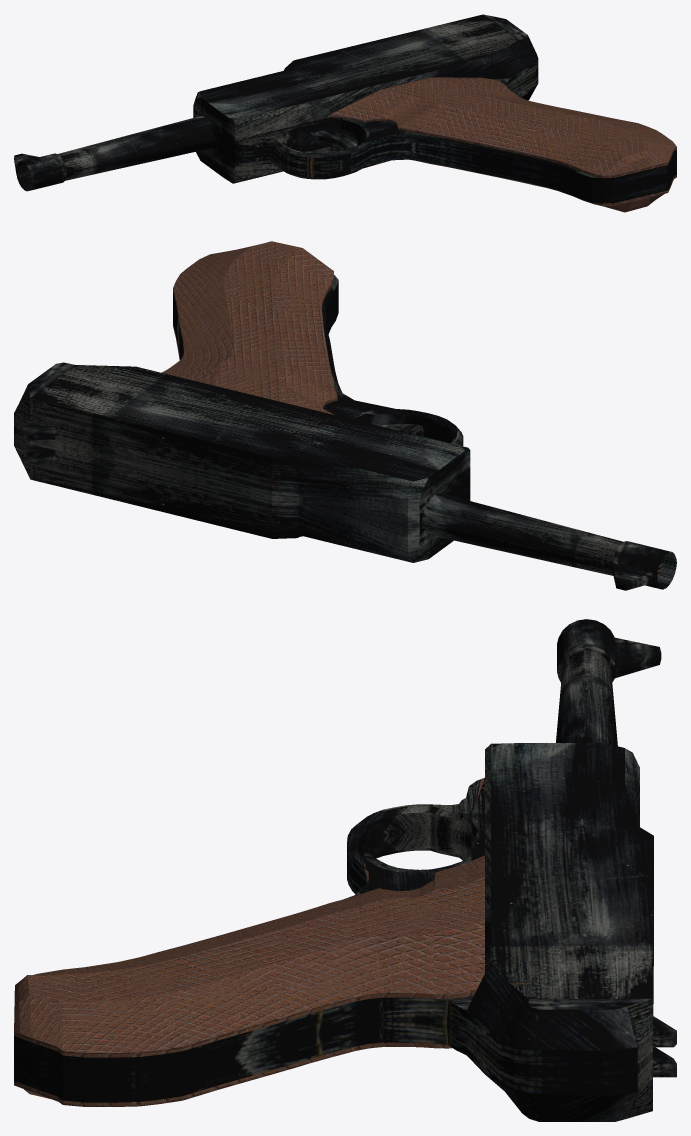
Rendered from luger.fbx.
The picture shows the model from 3 angles, top to bottom: view 1: azimuth 30°, elevation 25°; view 2: azimuth 150°, elevation 25°; view 3: azimuth 270°, elevation 25°; orthographic projection. The views are drawn at different scales.
Visible parts, largest first — view 1: Plane; view 2: Plane; view 3: Plane.
Boxes of the visible parts, x1,y1,x2,y2 form: Plane: [14, 14, 676, 212]; Plane: [14, 241, 676, 590]; Plane: [14, 619, 676, 1121].
Size of the model in its own units: 66.68 by 8 by 42.79.
